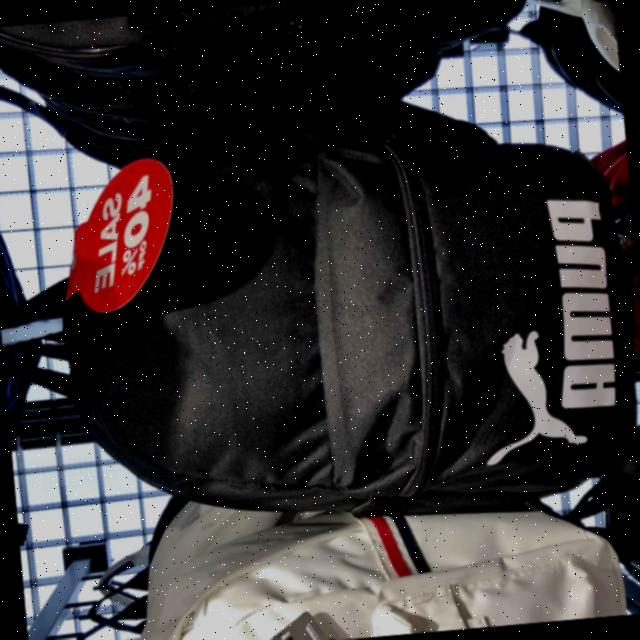Handbag: (38, 118, 640, 517)
